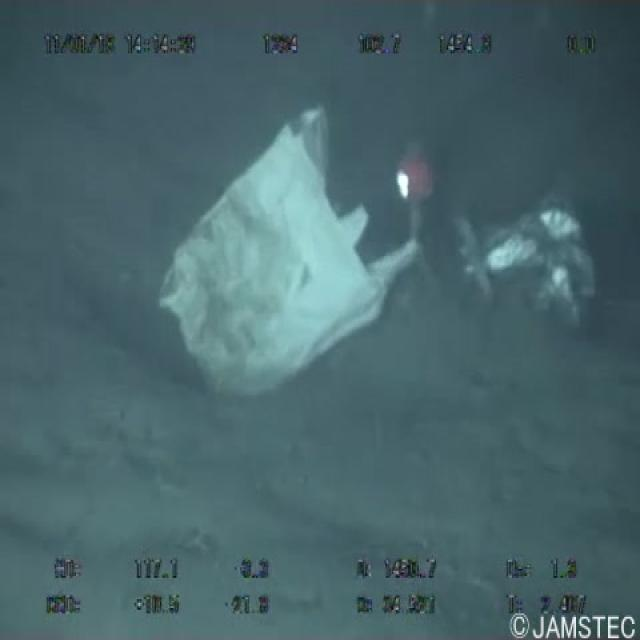plastic: (149, 90, 427, 402)
